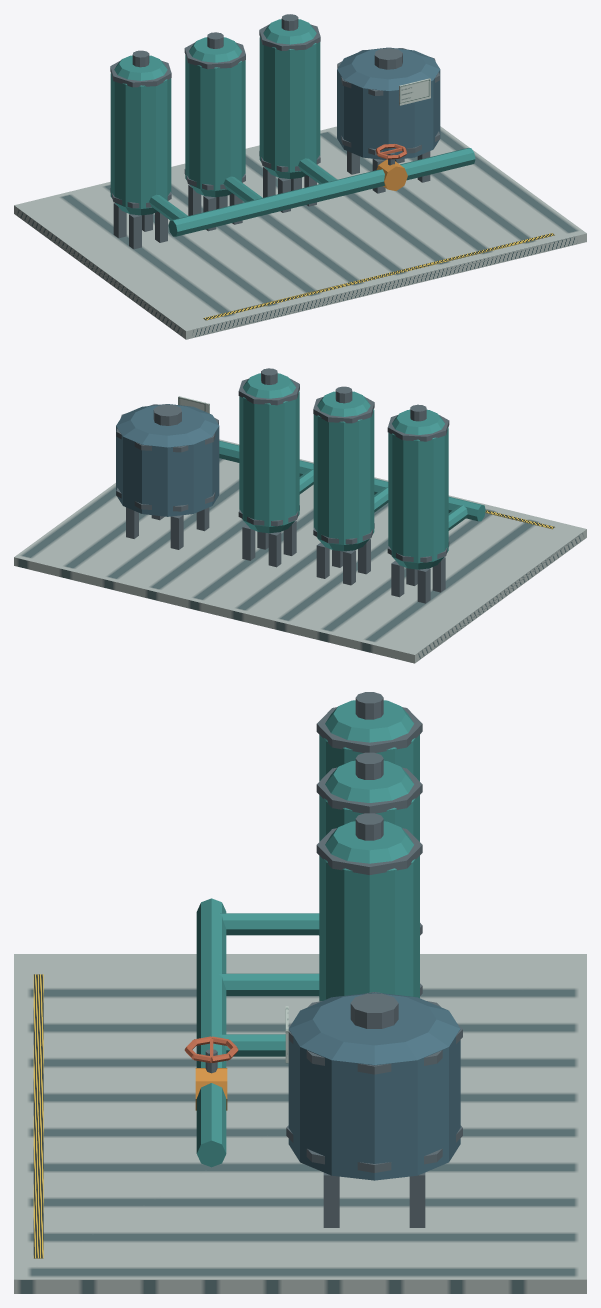
Rendered from TorusUtility_WaterTreatmentA.obj.
3 renders of one model, top to bottom at view 1: azimuth 30°, elevation 25°; view 2: azimuth 150°, elevation 25°; view 3: azimuth 270°, elevation 25°, orthographic. The views are drawn at different scales.
Visible parts, largest first — view 1: TorusUtility_WaterTreatmentA; view 2: TorusUtility_WaterTreatmentA; view 3: TorusUtility_WaterTreatmentA.
Boxes of the visible parts, x1,y1,x2,y2 form: TorusUtility_WaterTreatmentA: (14, 14, 586, 339); TorusUtility_WaterTreatmentA: (14, 368, 586, 663); TorusUtility_WaterTreatmentA: (14, 692, 586, 1293).
Size of the model in its own units: 1.95 by 0.895 by 1.45.
Materials: 1 (1 with a texture image).
